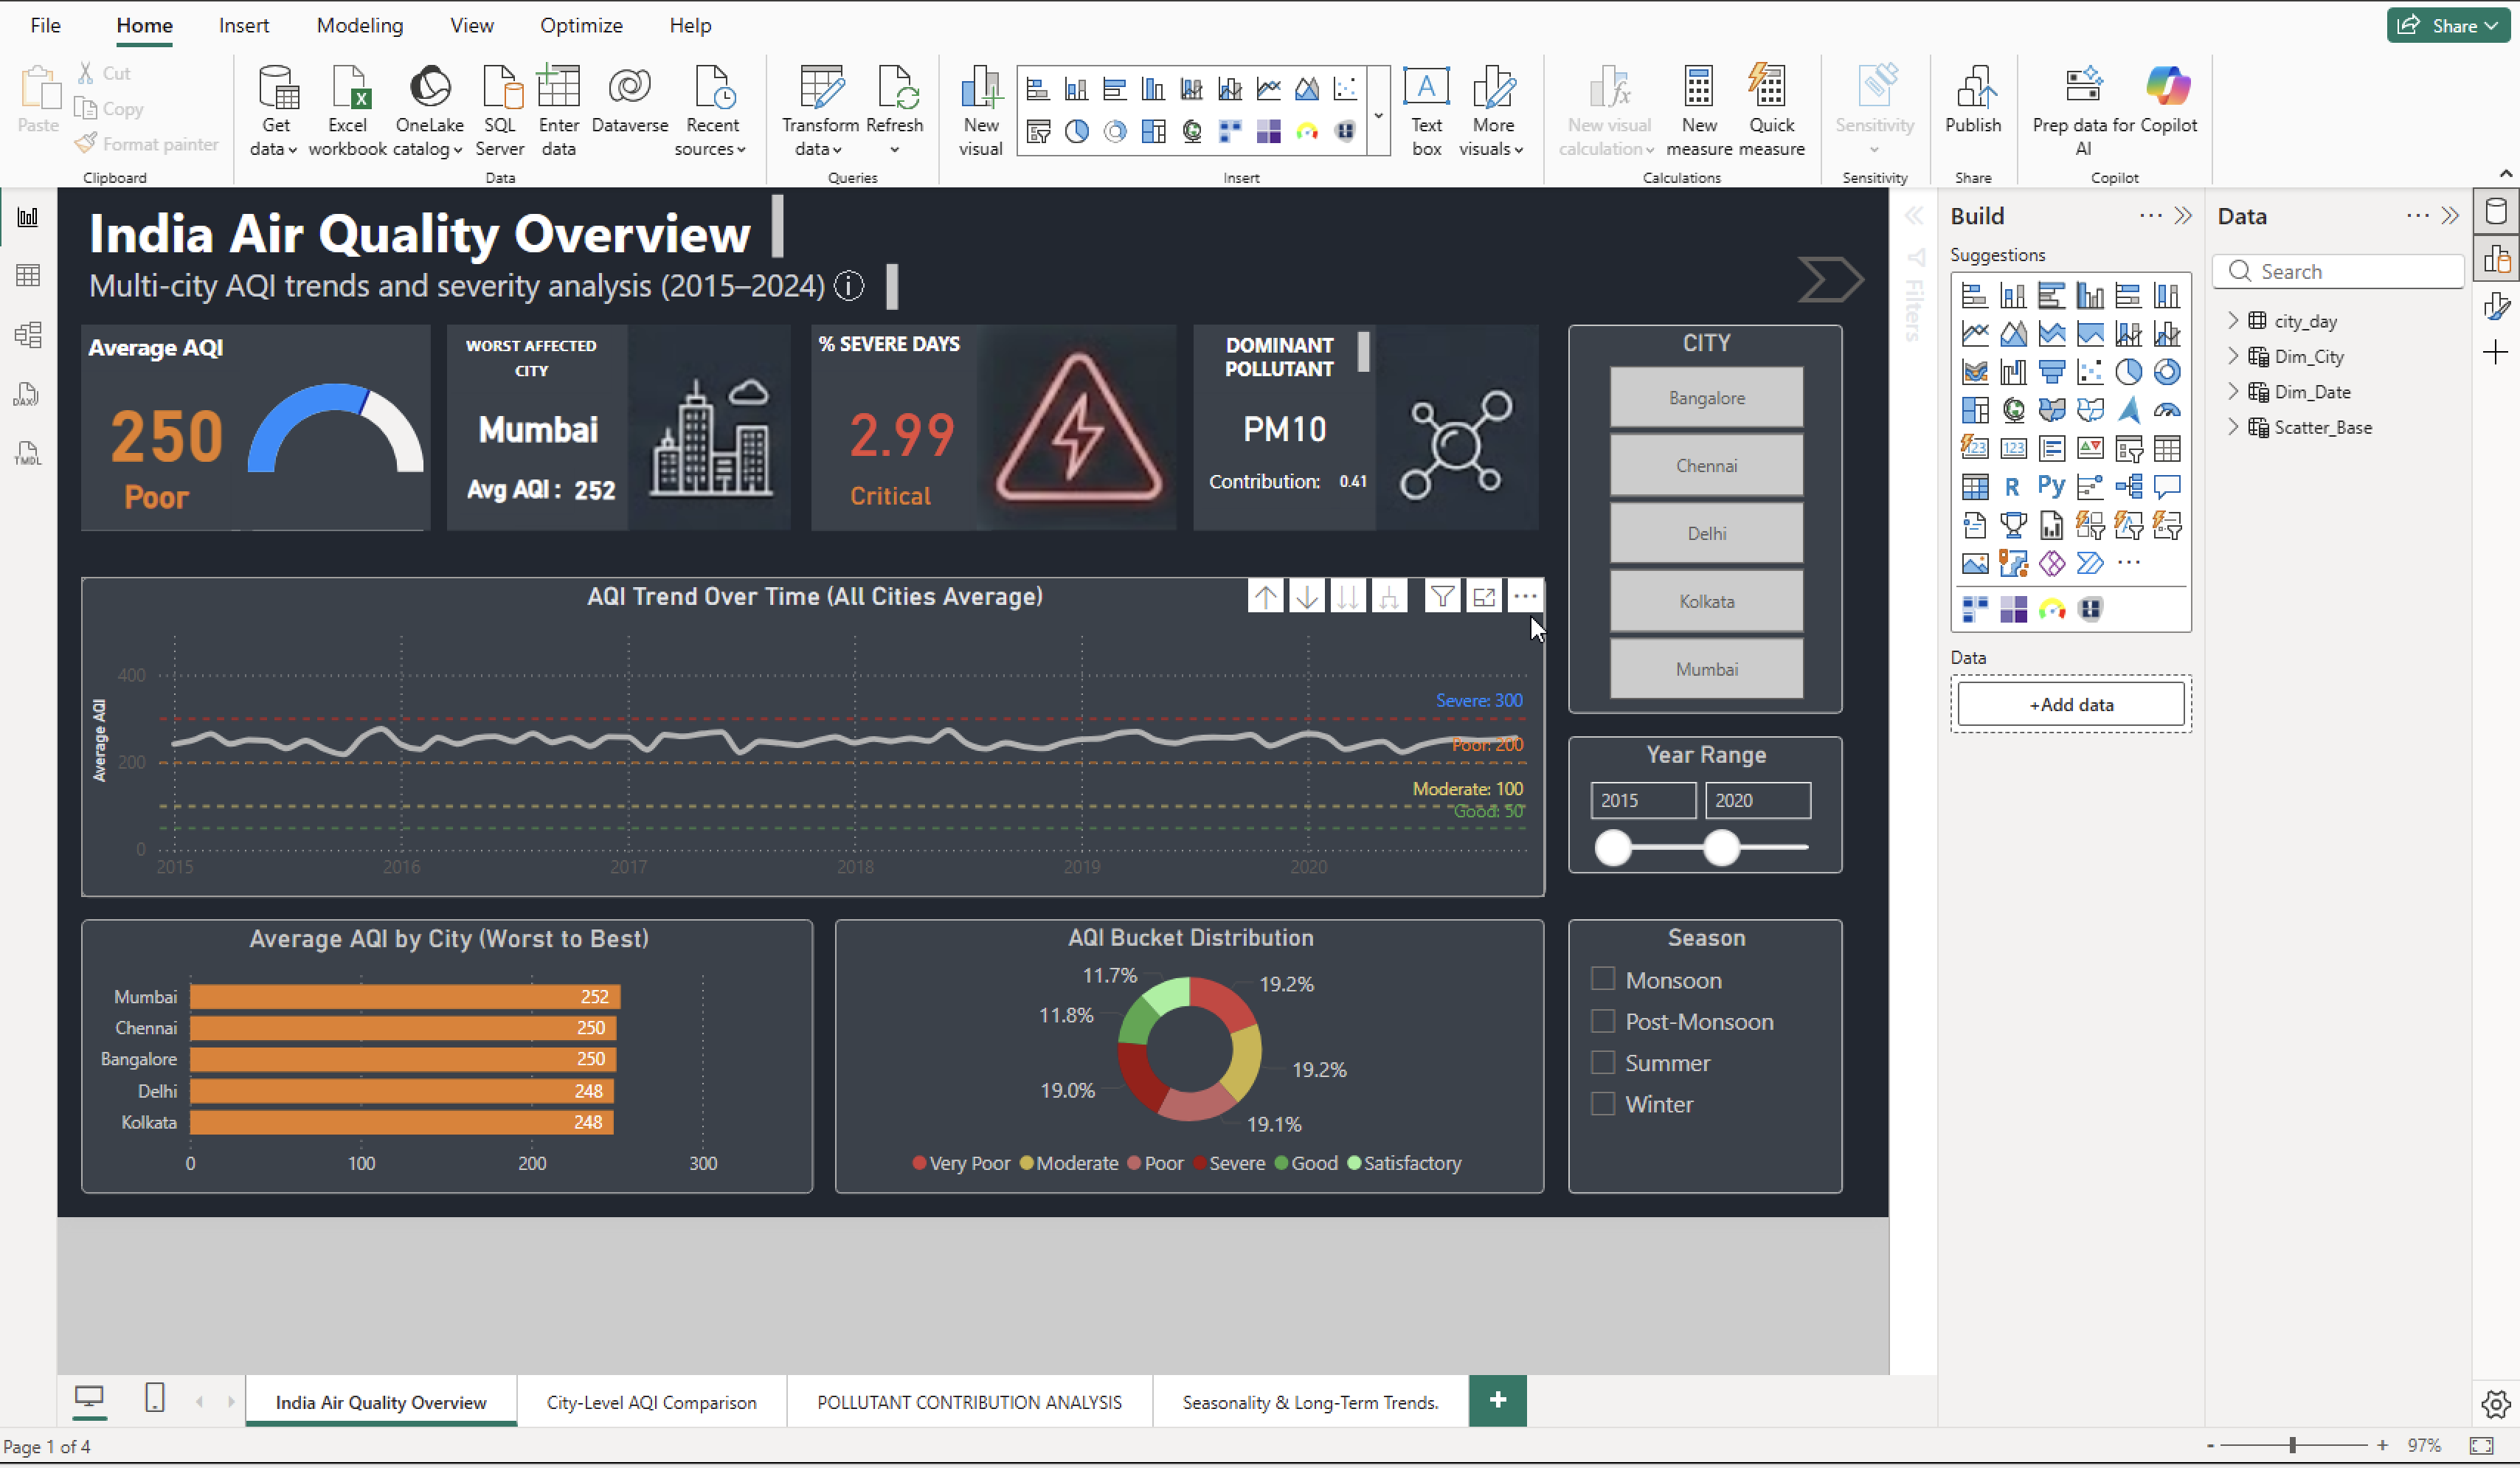

The page's visual inventory and layout, read from the dashboard file:
{"tool":"powerbi","page":{"name":"India Air Quality Overview","canvas":[1280,720],"ordinal":0},"visuals":[{"type":"textbox","box":[16,0,496,64],"z":0},{"type":"card","fields":{"Values":["city_day.Avg AQI"]},"box":[16,96,120,144],"z":0,"group":"g1"},{"type":"card","fields":{"Values":["city_day.Worst City Name"]},"box":[272,96,128,144],"z":0,"group":"g4"},{"type":"card","fields":{"Values":["city_day.% Severe Days"]},"box":[527,96,126.4,144],"z":0,"group":"g2"},{"type":"card","fields":{"Values":["city_day.Dominant Pollutant"]},"box":[794,96,128,144],"z":0,"group":"g3"},{"type":"card","fields":{"Values":["city_day.Worst City AQI"]},"box":[319,189,112,48],"z":500,"group":"g4"},{"type":"textbox","box":[16,48,576,48],"z":1000},{"type":"textbox","box":[16,96,112,32],"z":1000,"group":"g1"},{"type":"textbox","box":[275,96,112,48],"z":1000,"group":"g4"},{"type":"textbox","box":[527,96,158,32],"z":1000,"group":"g2"},{"type":"textbox","box":[794,96,128,48],"z":1000,"group":"g3"},{"type":"group","id":"g1","title":"Group 1","box":[16,96,240,144],"z":2000},{"type":"gauge","fields":{"Y":["city_day.Avg AQI"]},"box":[127.6,96,133.3,144],"z":2000,"group":"g1"},{"type":"image","box":[642.5,96,140.5,144],"z":2000,"group":"g2"},{"type":"group","id":"g2","title":"Group 1","box":[527,96,256,144],"z":3000},{"type":"card","fields":{"Values":["city_day.AQI Severity"]},"box":[16,192,105,48],"z":3000,"group":"g1"},{"type":"card","fields":{"Values":["city_day.Severe Days Label"]},"box":[527,192,110.6,48],"z":3000,"group":"g2"},{"type":"group","id":"g3","title":"Group 1","box":[794,96,256,144],"z":4000},{"type":"textbox","box":[281,196,80,32],"z":4010,"group":"g4"},{"type":"textbox","box":[800,192,96,32],"z":5000},{"type":"card","fields":{"Values":["city_day.Dominant Pollutant %"]},"box":[890,192,32,32],"z":5000,"group":"g3"},{"type":"group","id":"g4","title":"Group 2","box":[272,96,240,144],"z":6000},{"type":"image","box":[906,96,144,144],"z":6500,"group":"g3"},{"type":"image","box":[384,96,144,144],"z":7000},{"type":"lineChart","title":"AQI Trend Over Time (All Cities Average)\n","fields":{"Category":["Dim_Date.Date.Variation.Date Hierarchy.Year","Dim_Date.Date.Variation.Date Hierarchy.Month"],"Y":["city_day.Avg AQI"]},"box":[16,272,1024,224],"z":8000},{"type":"clusteredBarChart","title":"Average AQI by City (Worst to Best)\n","fields":{"Category":["Dim_City.City"],"Y":["city_day.Avg AQI"]},"box":[16,512,512,192],"z":9000},{"type":"donutChart","title":"AQI Bucket Distribution\n","fields":{"Category":["city_day.AQI_Bucket"],"Y":["city_day.Total Days"]},"box":[544,512,496,192],"z":10000},{"type":"slicer","title":"CITY","fields":{"Values":["Dim_City.City"]},"box":[1056,96,192,272],"z":11000},{"type":"slicer","title":"Year Range","fields":{"Values":["Dim_Date.Date.Variation.Date Hierarchy.Year"]},"box":[1056,384,192,96],"z":12000},{"type":"slicer","title":"Season ","fields":{"Values":["Dim_Date.Season"]},"box":[1056,512,192,192],"z":13000},{"type":"actionButton","box":[1216,48,48,32],"z":14000}]}

Visuals, with their boxes on the page's 1280x720 design canvas (x1, y1, x2, y2). These are canvas units, not pixel positions in the 2520x1468 screenshot, which may show the page scaled, cropped or inside an application window:
textbox: bbox(16, 0, 512, 64)
card - city_day.Avg AQI: bbox(16, 96, 136, 240)
card - city_day.Worst City Name: bbox(272, 96, 400, 240)
card - city_day.% Severe Days: bbox(527, 96, 653, 240)
card - city_day.Dominant Pollutant: bbox(794, 96, 922, 240)
card - city_day.Worst City AQI: bbox(319, 189, 431, 237)
textbox: bbox(16, 48, 592, 96)
textbox: bbox(16, 96, 128, 128)
textbox: bbox(275, 96, 387, 144)
textbox: bbox(527, 96, 685, 128)
textbox: bbox(794, 96, 922, 144)
"Group 1" group: bbox(16, 96, 256, 240)
gauge - city_day.Avg AQI: bbox(128, 96, 261, 240)
image: bbox(642, 96, 783, 240)
"Group 1" group: bbox(527, 96, 783, 240)
card - city_day.AQI Severity: bbox(16, 192, 121, 240)
card - city_day.Severe Days Label: bbox(527, 192, 638, 240)
"Group 1" group: bbox(794, 96, 1050, 240)
textbox: bbox(281, 196, 361, 228)
textbox: bbox(800, 192, 896, 224)
card - city_day.Dominant Pollutant %: bbox(890, 192, 922, 224)
"Group 2" group: bbox(272, 96, 512, 240)
image: bbox(906, 96, 1050, 240)
image: bbox(384, 96, 528, 240)
"AQI Trend Over Time (All Cities Average)
" lineChart: bbox(16, 272, 1040, 496)
"Average AQI by City (Worst to Best)
" clusteredBarChart: bbox(16, 512, 528, 704)
"AQI Bucket Distribution
" donutChart: bbox(544, 512, 1040, 704)
"CITY" slicer: bbox(1056, 96, 1248, 368)
"Year Range" slicer: bbox(1056, 384, 1248, 480)
"Season " slicer: bbox(1056, 512, 1248, 704)
actionButton: bbox(1216, 48, 1264, 80)
